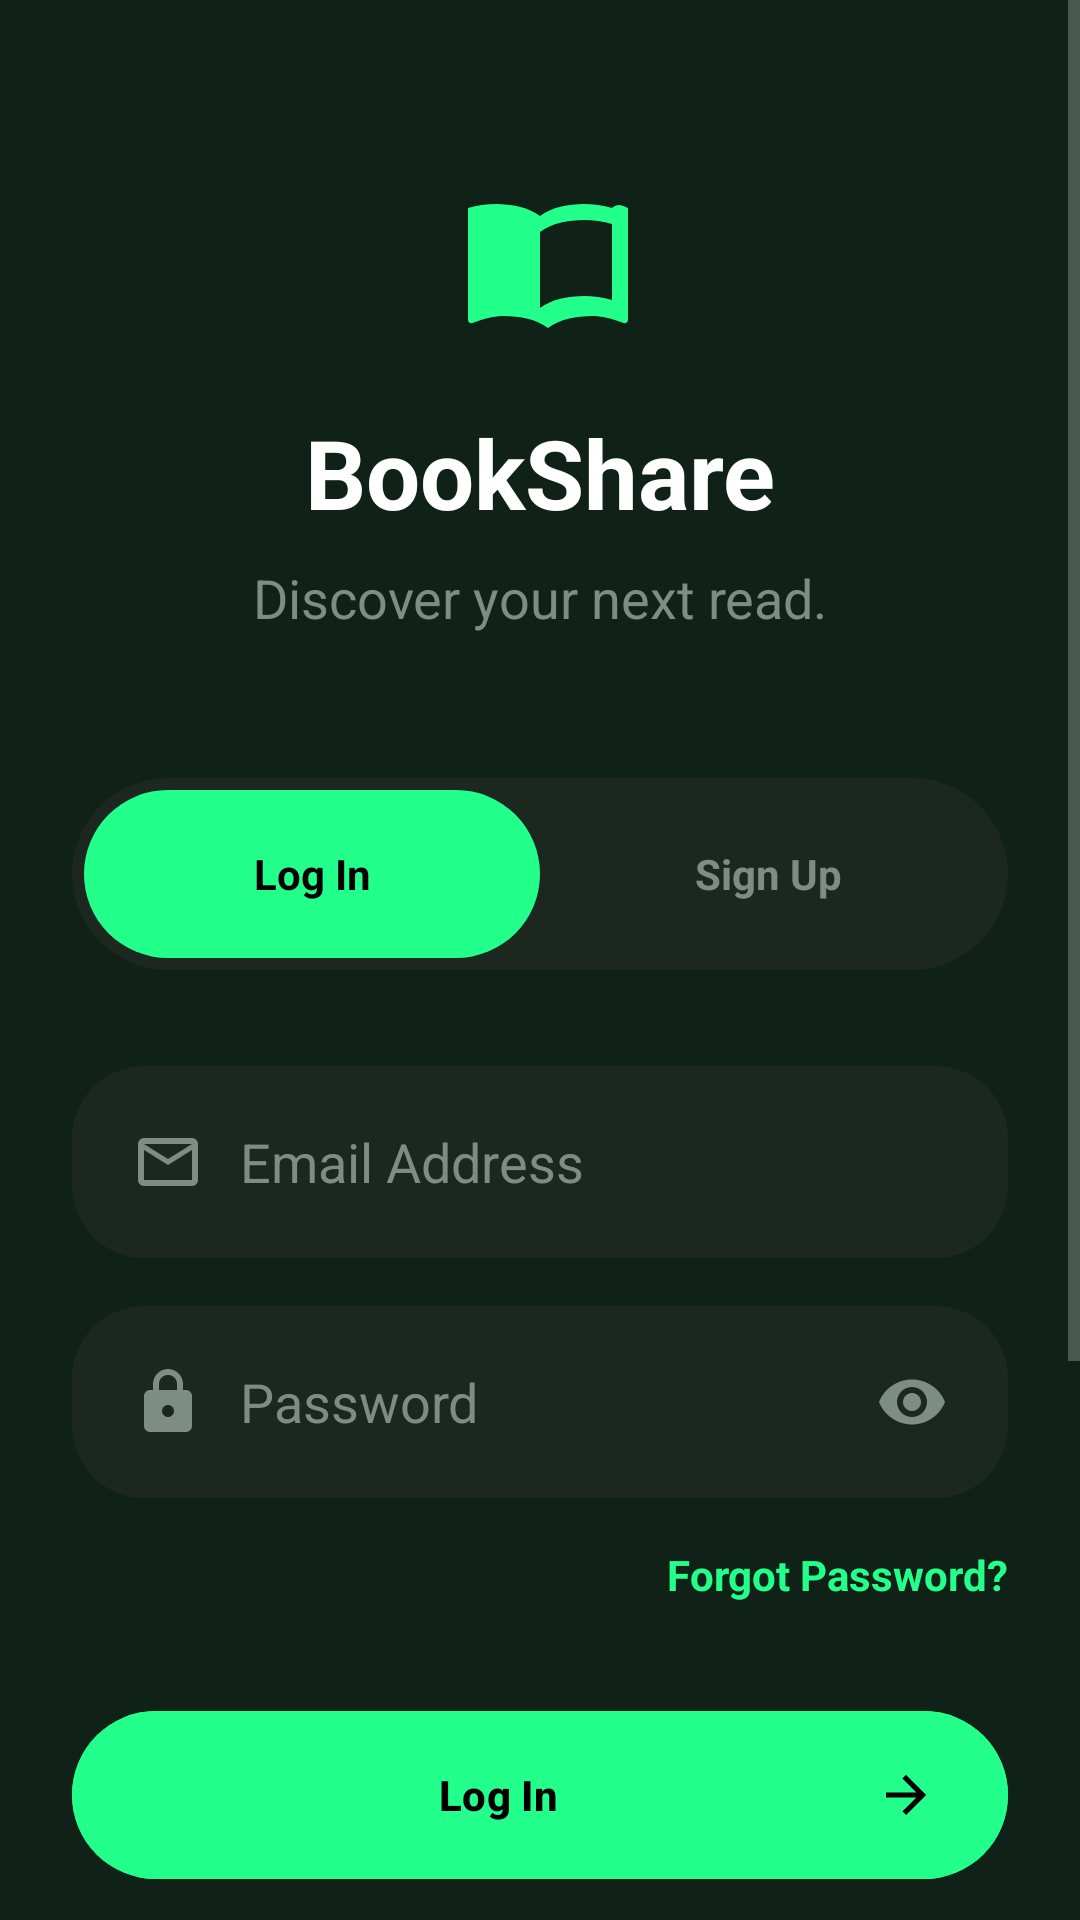

Where to tap for icons on this 1080 x 1920 app screen, as point (x, y):
eye: point (912, 1402)
lock: point (168, 1400)
